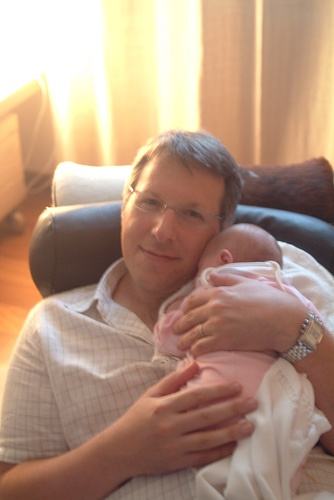head: (120, 130, 231, 295)
person: (3, 125, 334, 495)
